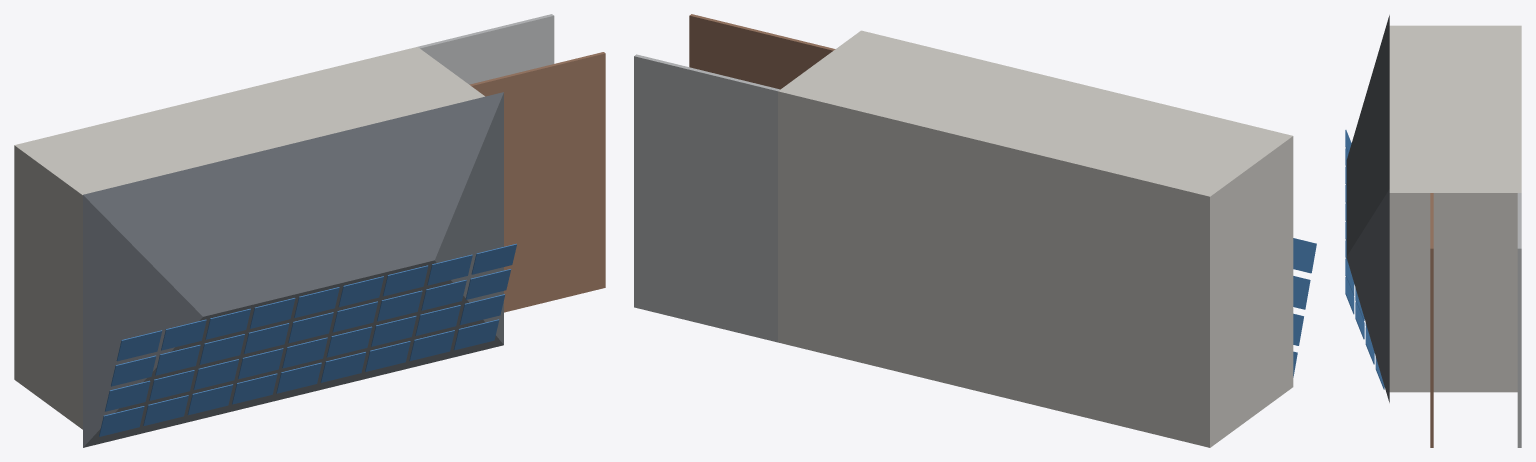
File: generated_8ec5822ef7.glb
The picture shows the model from 3 angles, left to right: view 1: azimuth 30°, elevation 25°; view 2: azimuth 150°, elevation 25°; view 3: azimuth 270°, elevation 25°; orthographic projection. The views are drawn at different scales.
Parts seen in each view (by area): view 1: hip_roof, house_body, front_porch_roof, front_porch_slab, solar_panel_5, solar_panel_28, solar_panel_29, solar_panel_34, solar_panel_3, solar_panel_4, solar_panel_6, solar_panel_10 (+28 smaller); view 2: house_body, front_porch_slab, front_porch_roof, solar_panel_27; view 3: house_body, hip_roof, front_porch_slab, front_porch_roof, solar_panel_35, solar_panel_26.
Part boxes in pixels (x1,y1,x2,y2): hip_roof: (83, 92, 503, 447); house_body: (14, 47, 484, 429); front_porch_roof: (469, 52, 605, 312); front_porch_slab: (418, 14, 554, 84); solar_panel_5: (320, 352, 366, 382); solar_panel_28: (161, 319, 206, 350); solar_panel_29: (205, 308, 250, 339); solar_panel_34: (427, 254, 472, 285); solar_panel_3: (232, 373, 277, 404); solar_panel_4: (276, 362, 321, 393); solar_panel_6: (365, 341, 410, 371); solar_panel_10: (149, 370, 194, 400); house_body: (778, 30, 1293, 447); front_porch_slab: (634, 54, 779, 342); front_porch_roof: (689, 14, 835, 89); solar_panel_27: (1293, 238, 1316, 273); house_body: (1389, 25, 1521, 392); hip_roof: (1346, 15, 1389, 402); front_porch_slab: (1517, 193, 1521, 447); front_porch_roof: (1430, 193, 1433, 447); solar_panel_35: (1345, 277, 1354, 314); solar_panel_26: (1355, 302, 1364, 339).
Bounding box in the file's own units: 24.4 × 10.8 × 8.02.
